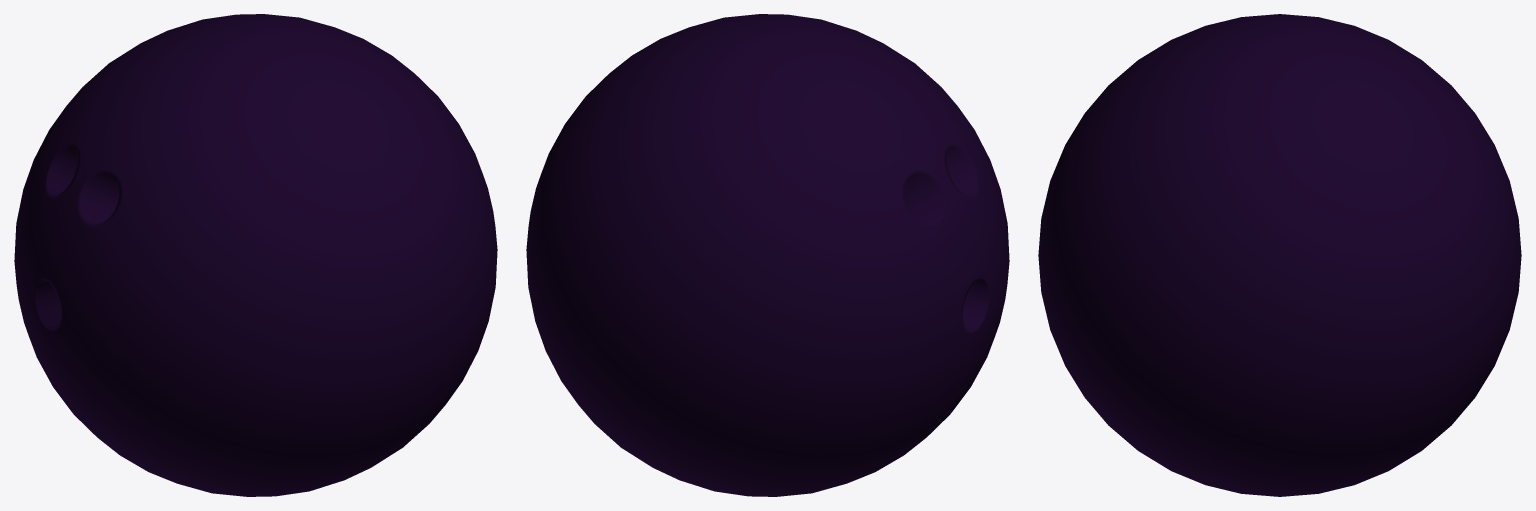
File: ball.fbx
3 views of the same model, side by side, from view 1: azimuth 30°, elevation 25°; view 2: azimuth 150°, elevation 25°; view 3: azimuth 270°, elevation 25° (orthographic).
Visible parts, largest first — view 1: Icosphere; view 2: Icosphere; view 3: Icosphere.
Boxes of the visible parts, x1,y1,x2,y2 form: Icosphere: (14,14,497,496); Icosphere: (526,14,1009,496); Icosphere: (1038,14,1521,496).
Size of the model in its own units: 518 by 520 by 520.
